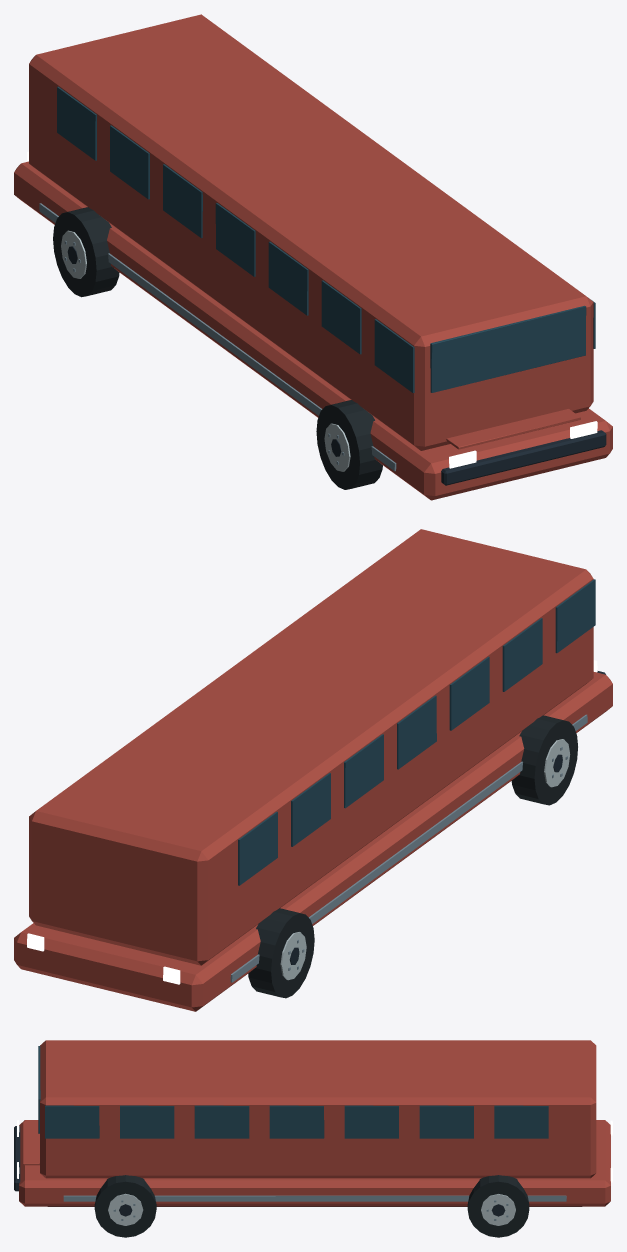
File: road-bus.lod1.glb
3 views of the same model, one above another, from view 1: azimuth 30°, elevation 25°; view 2: azimuth 150°, elevation 25°; view 3: azimuth 270°, elevation 25° (orthographic). The views are drawn at different scales.
Parts seen in each view (by area): view 1: road-bus__body, road-bus__wheel_steer_0_l, road-bus__wheel_steer_1_l; view 2: road-bus__body, road-bus__wheel_steer_0_l, road-bus__wheel_steer_1_l; view 3: road-bus__body, road-bus__wheel_steer_0_r, road-bus__wheel_steer_1_r.
Part boxes in pixels (x1,y1,x2,y2): road-bus__body: (14, 14, 612, 500); road-bus__wheel_steer_0_l: (316, 400, 382, 489); road-bus__wheel_steer_1_l: (53, 207, 119, 297); road-bus__body: (14, 529, 612, 1011); road-bus__wheel_steer_0_l: (511, 715, 577, 805); road-bus__wheel_steer_1_l: (248, 908, 314, 998); road-bus__body: (14, 1040, 612, 1206); road-bus__wheel_steer_0_r: (94, 1175, 156, 1237); road-bus__wheel_steer_1_r: (467, 1175, 529, 1237).
Bounding box in the file's own units: 2.85 × 2.25 × 9.31.
